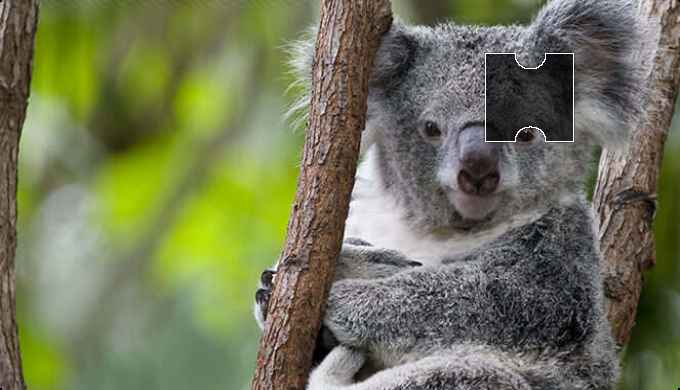gap: (485, 52, 575, 141)
